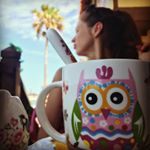cups: (35, 56, 150, 149)
